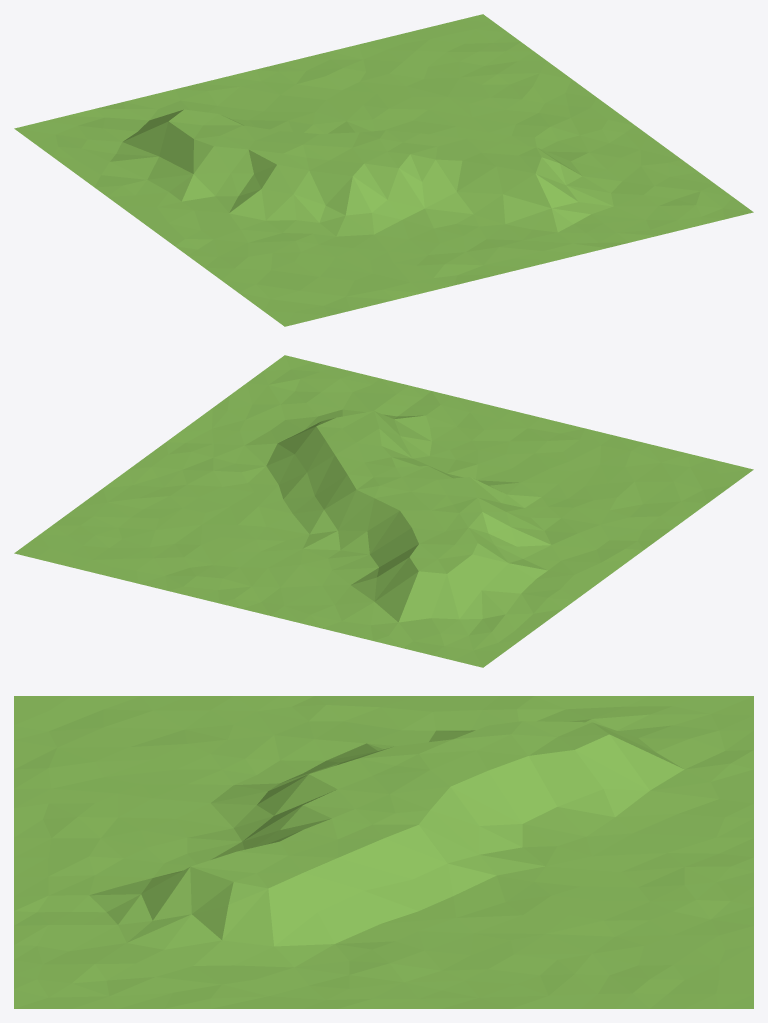
The model's file is MT_Terrain_M_c_03.fbx.
3 views of the same model, one above another, from view 1: azimuth 30°, elevation 25°; view 2: azimuth 150°, elevation 25°; view 3: azimuth 270°, elevation 25° (orthographic). The views are drawn at different scales.
Parts seen in each view (by area): view 1: MT_Terrain_M_c_03; view 2: MT_Terrain_M_c_03; view 3: MT_Terrain_M_c_03.
Boxes of the visible parts, bbox=[...] form: MT_Terrain_M_c_03: bbox=[14, 14, 753, 326]; MT_Terrain_M_c_03: bbox=[14, 355, 753, 667]; MT_Terrain_M_c_03: bbox=[14, 696, 753, 1008].
Bounding box in the file's own units: 5000 × 306 × 5000.
